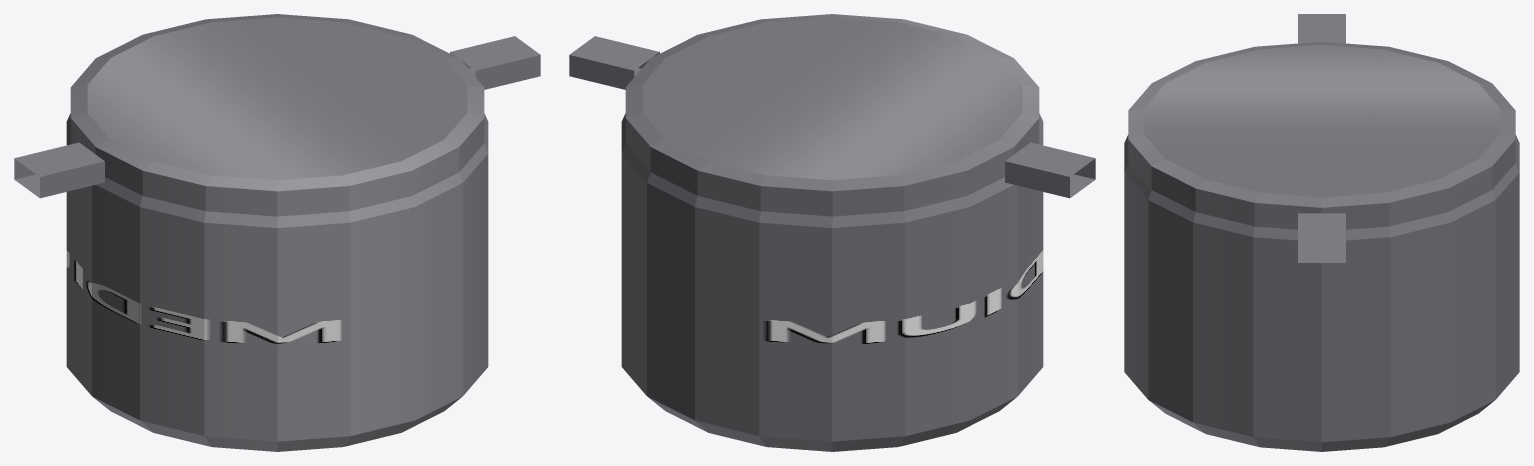
Rendered from pot_medium.obj.
The picture shows the model from 3 angles, left to right: view 1: azimuth 30°, elevation 25°; view 2: azimuth 150°, elevation 25°; view 3: azimuth 270°, elevation 25°; orthographic projection. The views are drawn at different scales.
Parts seen in each view (by area): view 1: pot_medium; view 2: pot_medium; view 3: pot_medium.
Boxes of the visible parts, box(x1,y1,x2,y2) form: pot_medium: box(14, 14, 540, 451); pot_medium: box(569, 14, 1095, 451); pot_medium: box(1124, 14, 1519, 451).
Size of the model in its own units: 0.27 by 0.14 by 0.197.
1 material, 1 textured.
